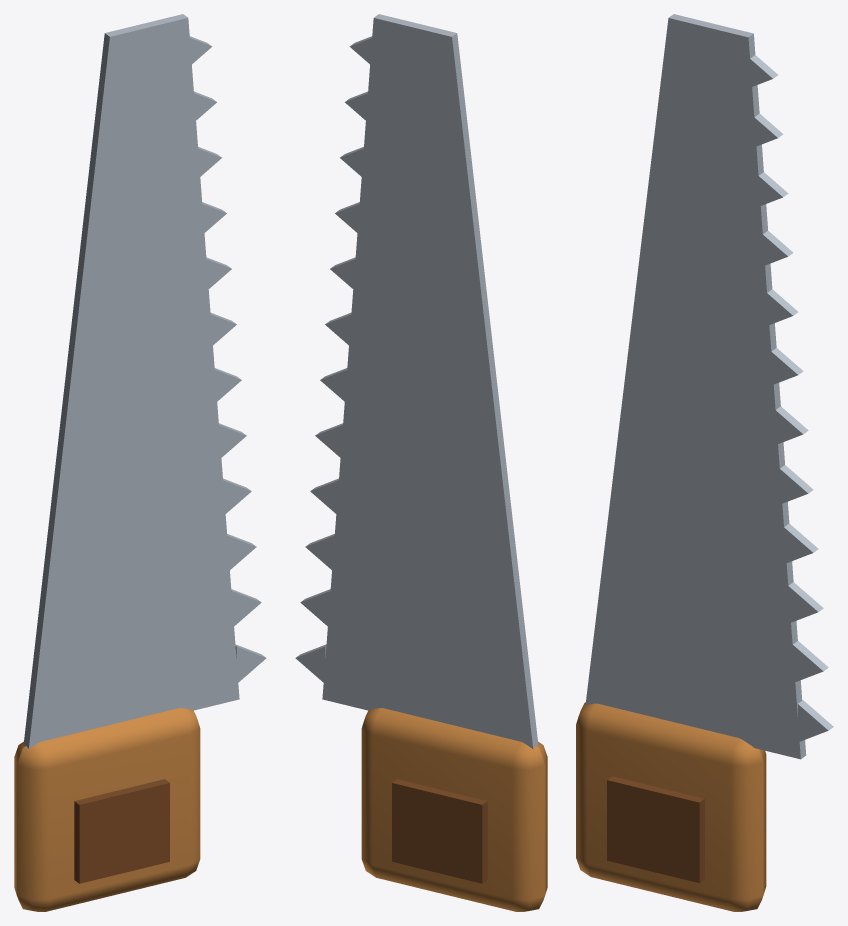
Rendered from HandSaw.fbx.
3 views of the same model, side by side, from view 1: azimuth 30°, elevation 25°; view 2: azimuth 150°, elevation 25°; view 3: azimuth 330°, elevation 25° (orthographic). The views are drawn at different scales.
Visible parts, largest first — view 1: HandSaw; view 2: HandSaw; view 3: HandSaw.
Part boxes in pixels (<box>): HandSaw: <box>14,14,266,911</box>; HandSaw: <box>295,14,547,911</box>; HandSaw: <box>576,14,833,911</box>.
Bounding box in the file's own units: 0.82 × 2.73 × 0.2.
1 material, 1 textured.
